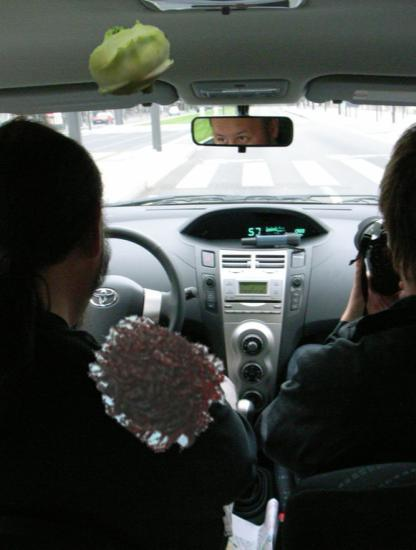Kohlrabi: (86, 16, 176, 106)
Rambutan: (83, 306, 232, 455)
